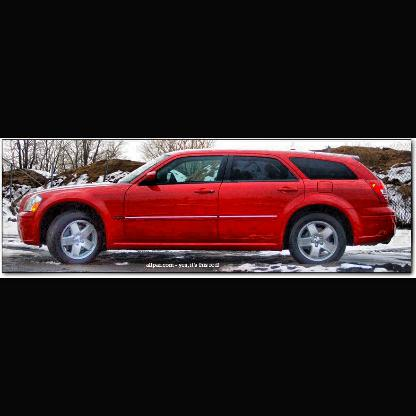Dodge Magnum Wagon 2008: (20, 151, 398, 262)
